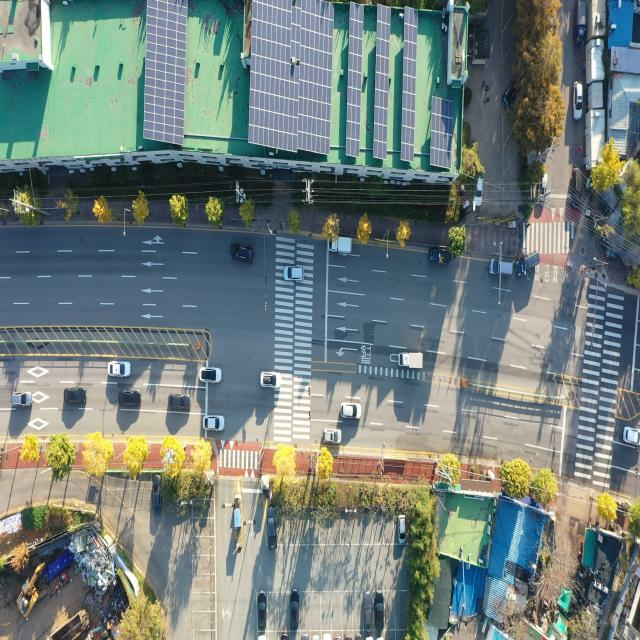car: (514, 250, 540, 279), (570, 167, 582, 212), (503, 79, 519, 111), (488, 257, 512, 278), (288, 588, 299, 630), (233, 244, 256, 264), (374, 590, 385, 631), (152, 472, 162, 517), (267, 506, 277, 548), (168, 393, 192, 410), (364, 592, 374, 632), (65, 387, 87, 404), (200, 365, 222, 382), (262, 372, 284, 389), (623, 425, 640, 447), (474, 174, 485, 208), (256, 588, 266, 625), (204, 415, 225, 432), (341, 404, 361, 421), (108, 361, 130, 376), (122, 391, 144, 406), (573, 84, 582, 120), (322, 428, 342, 444), (537, 173, 548, 202), (10, 392, 31, 407), (284, 267, 303, 281), (398, 513, 406, 541)
small_truck: (574, 0, 588, 45), (398, 351, 423, 371), (329, 237, 354, 256), (429, 247, 452, 265)
